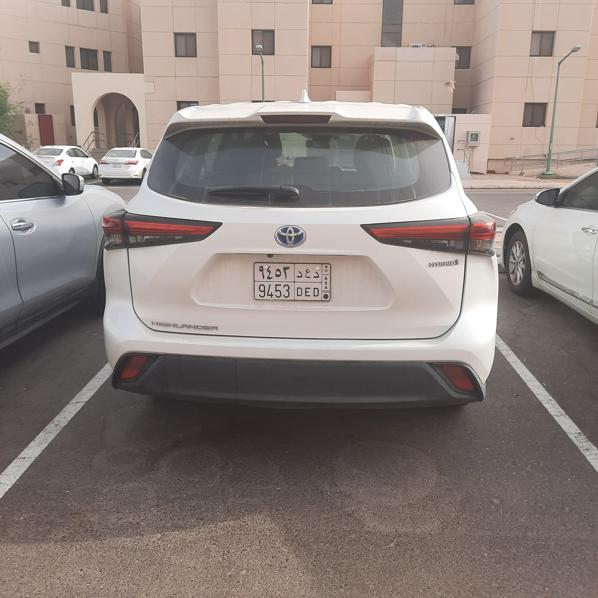numberplate: (254, 262, 332, 302)
